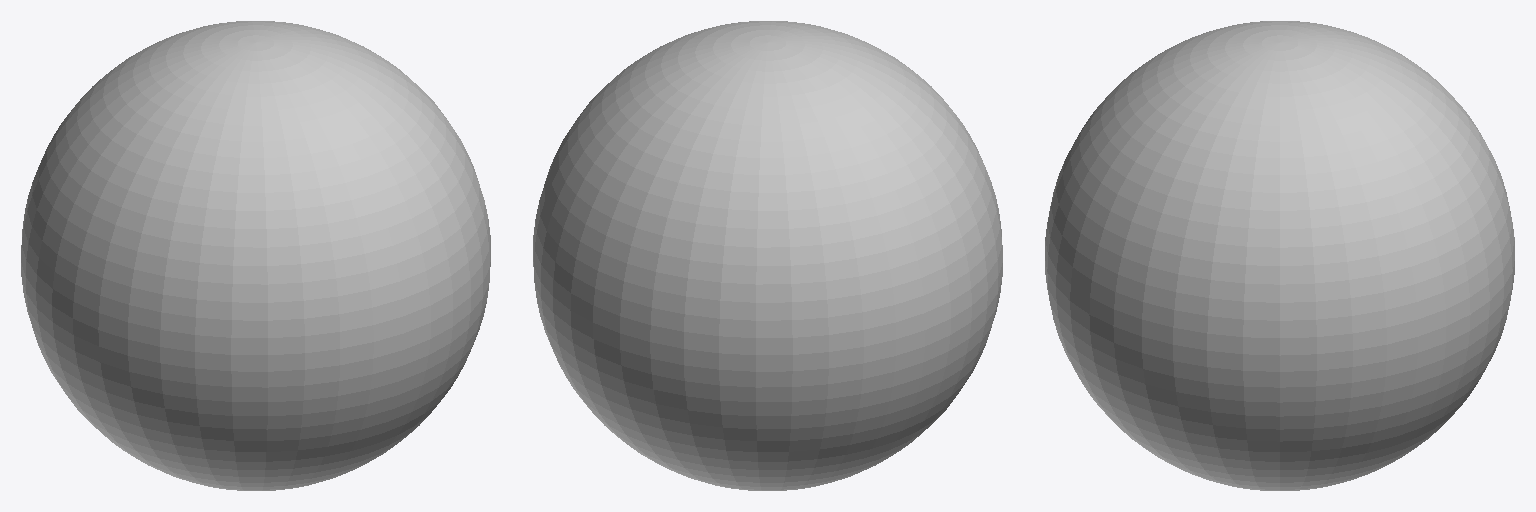
Rendered from luxoball.obj.
3 renders of one model, left to right at view 1: azimuth 30°, elevation 25°; view 2: azimuth 150°, elevation 25°; view 3: azimuth 270°, elevation 25°, orthographic.
Parts seen in each view (by area): view 1: Ball; view 2: Ball; view 3: Ball.
Part boxes in pixels (bbox=[...]): Ball: bbox=[21, 21, 490, 490]; Ball: bbox=[533, 21, 1002, 490]; Ball: bbox=[1045, 21, 1514, 490].
Bounding box in the file's own units: 2 × 2 × 2.